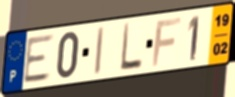0: (55, 30, 81, 81)
1: (187, 15, 199, 62)
E: (21, 33, 56, 86)
F: (150, 15, 183, 68)
I: (93, 25, 106, 77)
L: (119, 22, 144, 74)
